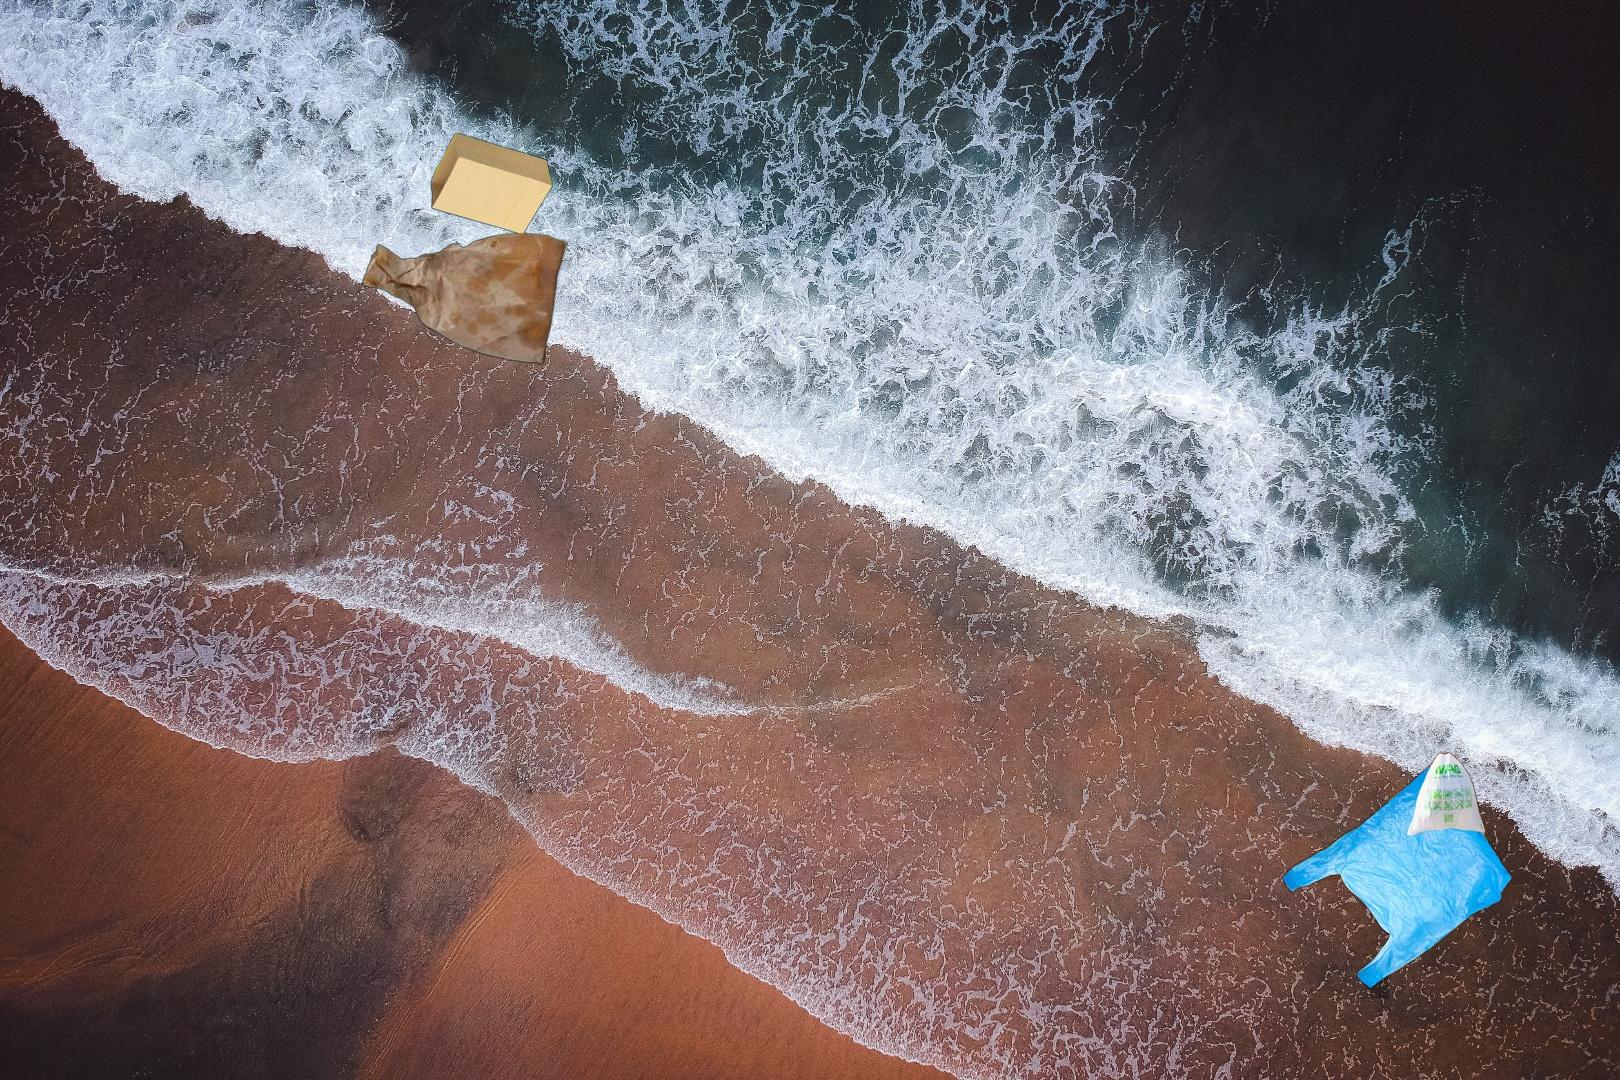paper-bag: (360, 130, 571, 370)
plastic-bag: (1279, 749, 1513, 999)
